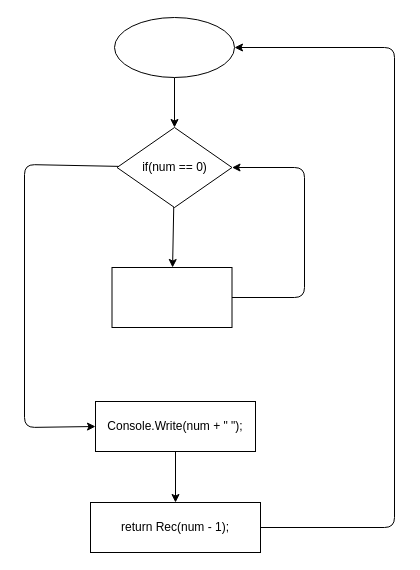
Image size: 420x570. Some labels were removed from this diagram. Each missing label, with the box of its shape:
int Rec(int num): (114, 16, 234, 78)
return 1;: (111, 266, 232, 328)
